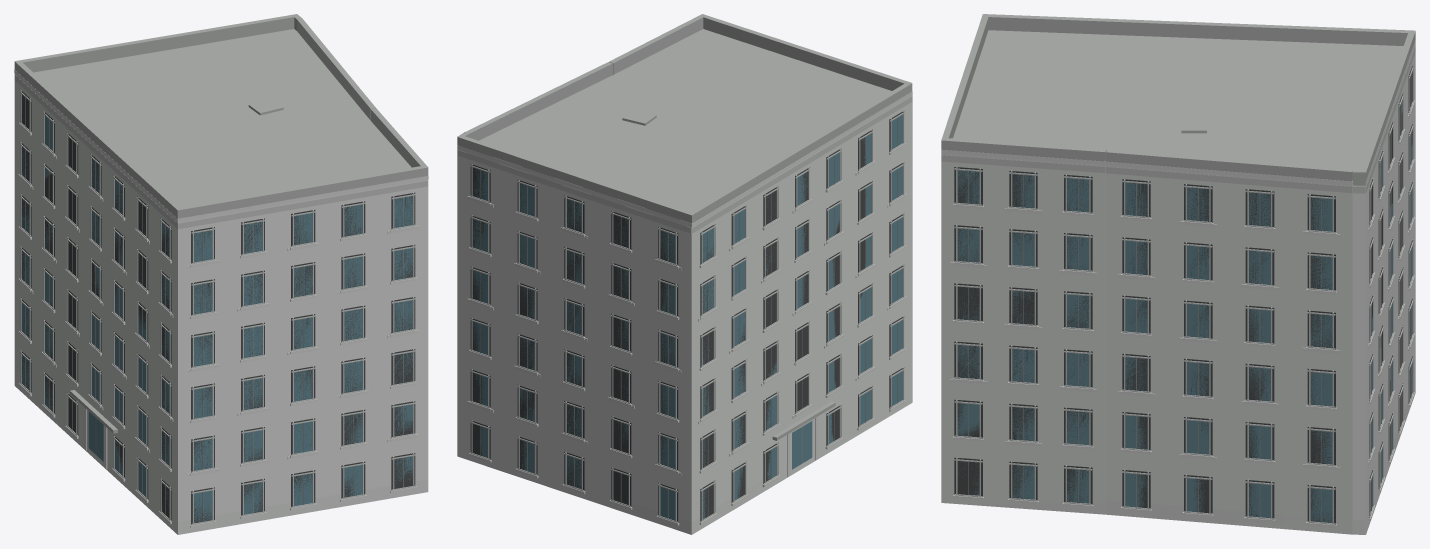
Rendered from cop_hotel_contemporaneo_01__way_1048277496.fbx.
The picture shows the model from 3 angles, left to right: view 1: azimuth 30°, elevation 25°; view 2: azimuth 150°, elevation 25°; view 3: azimuth 270°, elevation 25°; orthographic projection. The views are drawn at different scales.
Visible parts, largest first — view 1: cop_hotel_contemporaneo_01__way_1048277496_wall, cop_hotel_contemporaneo_01__way_1048277496_roof, cop_hotel_contemporaneo_01__way_1048277496_glass, cop_hotel_contemporaneo_01__way_1048277496_shadow, cop_hotel_contemporaneo_01__way_1048277496_trim, cop_hotel_contemporaneo_01__way_1048277496_stone, cop_hotel_contemporaneo_01__way_1048277496_metal; view 2: cop_hotel_contemporaneo_01__way_1048277496_wall, cop_hotel_contemporaneo_01__way_1048277496_roof, cop_hotel_contemporaneo_01__way_1048277496_shadow, cop_hotel_contemporaneo_01__way_1048277496_glass, cop_hotel_contemporaneo_01__way_1048277496_trim, cop_hotel_contemporaneo_01__way_1048277496_stone, cop_hotel_contemporaneo_01__way_1048277496_metal; view 3: cop_hotel_contemporaneo_01__way_1048277496_wall, cop_hotel_contemporaneo_01__way_1048277496_roof, cop_hotel_contemporaneo_01__way_1048277496_glass, cop_hotel_contemporaneo_01__way_1048277496_shadow, cop_hotel_contemporaneo_01__way_1048277496_trim, cop_hotel_contemporaneo_01__way_1048277496_stone, cop_hotel_contemporaneo_01__way_1048277496_metal.
Part boxes in pixels (box(x1,y1,x2,y2)): cop_hotel_contemporaneo_01__way_1048277496_wall: box(14, 73, 428, 534); cop_hotel_contemporaneo_01__way_1048277496_roof: box(14, 14, 428, 433); cop_hotel_contemporaneo_01__way_1048277496_glass: box(21, 95, 412, 523); cop_hotel_contemporaneo_01__way_1048277496_shadow: box(20, 91, 415, 524); cop_hotel_contemporaneo_01__way_1048277496_trim: box(14, 75, 427, 525); cop_hotel_contemporaneo_01__way_1048277496_stone: box(14, 70, 428, 534); cop_hotel_contemporaneo_01__way_1048277496_metal: box(25, 97, 403, 521); cop_hotel_contemporaneo_01__way_1048277496_wall: box(457, 95, 912, 534); cop_hotel_contemporaneo_01__way_1048277496_roof: box(457, 14, 912, 440); cop_hotel_contemporaneo_01__way_1048277496_shadow: box(470, 111, 904, 522); cop_hotel_contemporaneo_01__way_1048277496_glass: box(472, 115, 902, 520); cop_hotel_contemporaneo_01__way_1048277496_trim: box(457, 96, 912, 522); cop_hotel_contemporaneo_01__way_1048277496_stone: box(457, 91, 912, 534); cop_hotel_contemporaneo_01__way_1048277496_metal: box(480, 118, 897, 518); cop_hotel_contemporaneo_01__way_1048277496_wall: box(941, 45, 1415, 534); cop_hotel_contemporaneo_01__way_1048277496_roof: box(941, 14, 1415, 185); cop_hotel_contemporaneo_01__way_1048277496_glass: box(957, 100, 1412, 522); cop_hotel_contemporaneo_01__way_1048277496_shadow: box(954, 64, 1412, 524); cop_hotel_contemporaneo_01__way_1048277496_trim: box(941, 46, 1415, 524); cop_hotel_contemporaneo_01__way_1048277496_stone: box(941, 41, 1415, 534); cop_hotel_contemporaneo_01__way_1048277496_metal: box(968, 74, 1411, 522).
Size of the model in its own units: 1755 by 1869 by 2217.
